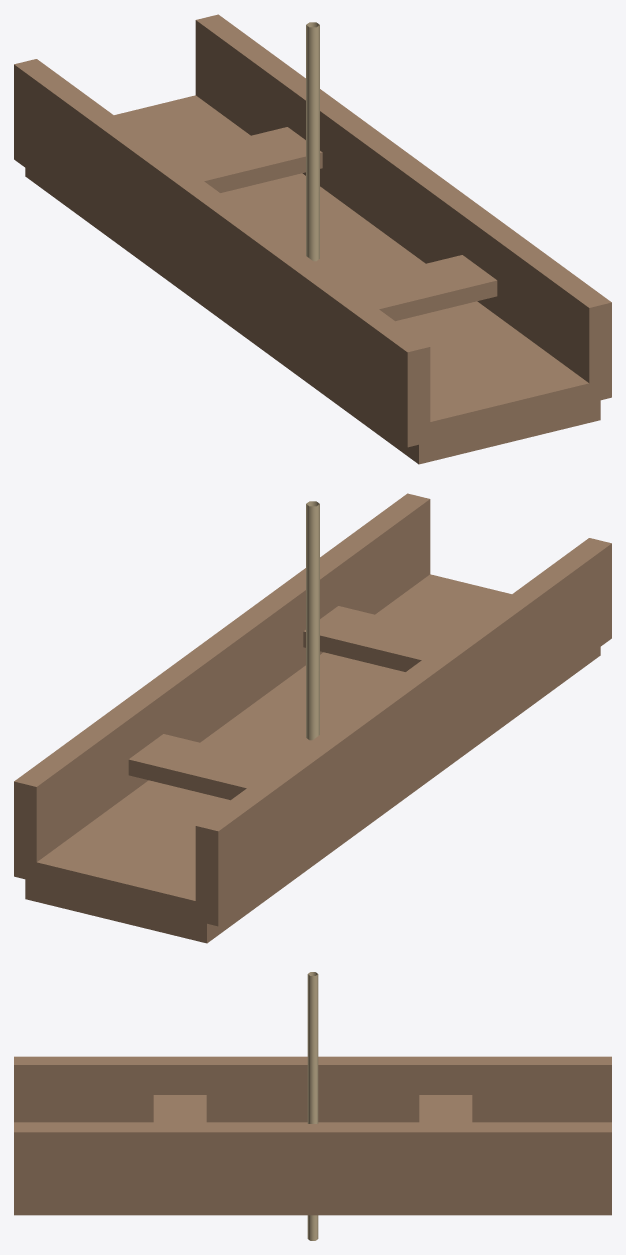
Rendered from mangrove_rowboat.glb.
3 views of the same model, one above another, from view 1: azimuth 30°, elevation 25°; view 2: azimuth 150°, elevation 25°; view 3: azimuth 270°, elevation 25° (orthographic). The views are drawn at different scales.
Parts seen in each view (by area): view 1: BoatHull_SideL_Node, BoatHull_SideR_Node, BoatHull_Bottom_Node, BoatSeat_1_Node, BoatSeat_0_Node, Oar_Left_Node; view 2: BoatHull_SideL_Node, BoatHull_Bottom_Node, BoatHull_SideR_Node, BoatSeat_0_Node, BoatSeat_1_Node, Oar_Left_Node; view 3: BoatHull_SideR_Node, BoatHull_SideL_Node, BoatHull_Bottom_Node, Oar_Left_Node, BoatSeat_0_Node, BoatSeat_1_Node.
Boxes of the visible parts, x1,y1,x2,y2 form: BoatHull_SideL_Node: (14,59,430,447); BoatHull_SideR_Node: (195,14,611,402); BoatHull_Bottom_Node: (25,95,600,464); BoatSeat_1_Node: (344,255,497,321); BoatSeat_0_Node: (169,127,322,192); Oar_Left_Node: (306,22,319,261); BoatHull_SideL_Node: (195,538,611,926); BoatHull_Bottom_Node: (25,574,600,943); BoatHull_SideR_Node: (14,493,430,880); BoatSeat_0_Node: (128,734,281,800); BoatSeat_1_Node: (303,606,456,671); Oar_Left_Node: (306,501,319,740); BoatHull_SideR_Node: (14,1124,611,1204); BoatHull_SideL_Node: (14,1056,611,1122); BoatHull_Bottom_Node: (14,1122,611,1215); Oar_Left_Node: (307,972,318,1240); BoatSeat_0_Node: (419,1095,472,1123); BoatSeat_1_Node: (153,1095,206,1123).
Bounding box in the file's own units: 1.35 × 2.2 × 4.5.
